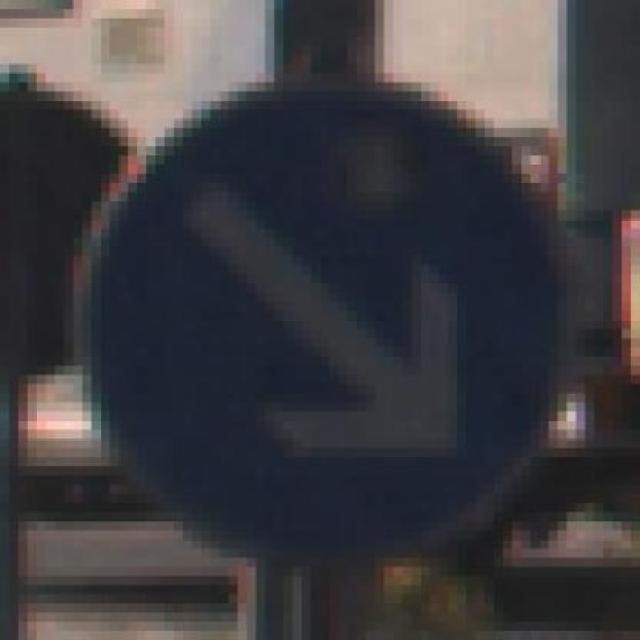Keep-Right: (45, 54, 613, 586)
